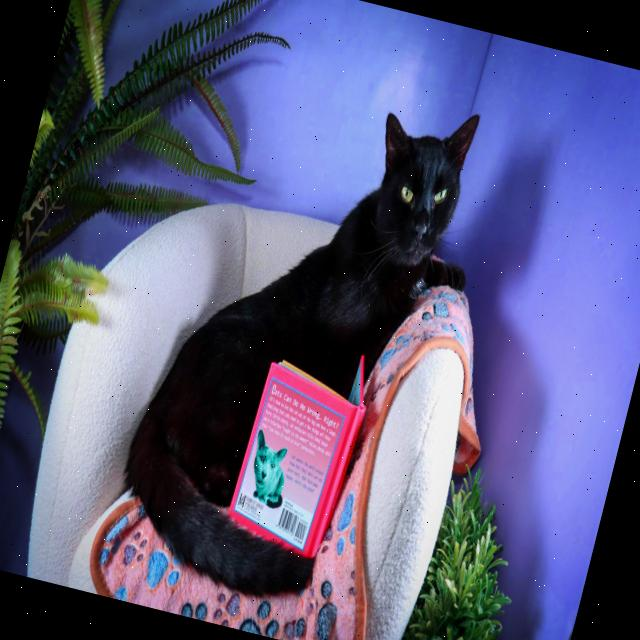bombay_cat: (344, 85, 488, 295)
